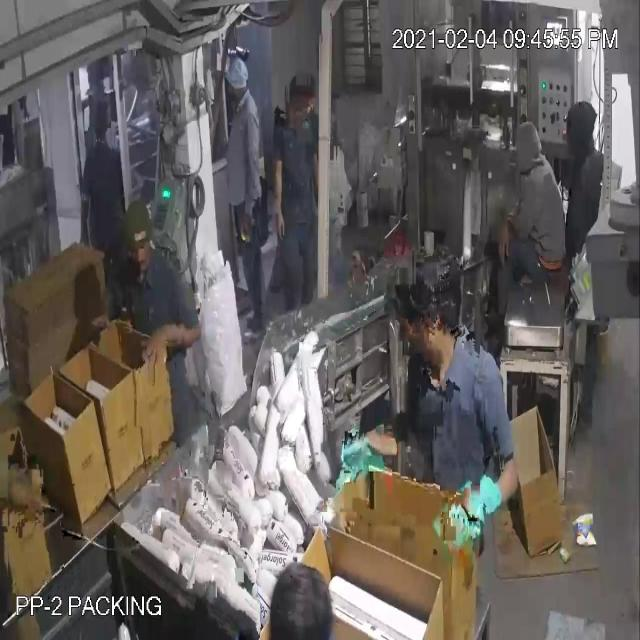gloves: (435, 462, 514, 564), (337, 410, 401, 482)
no-gloves: (0, 449, 58, 544), (139, 300, 201, 368), (240, 104, 264, 247), (87, 297, 143, 353), (270, 137, 288, 243), (498, 202, 520, 276)
